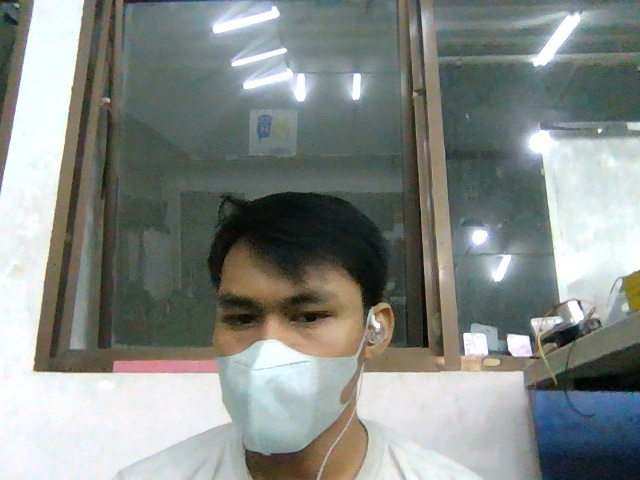mask_on: (216, 339, 357, 454)
